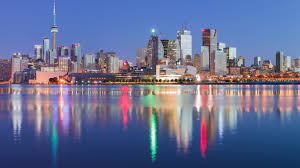city: (14, 32, 296, 87)
lake: (4, 85, 299, 167)
